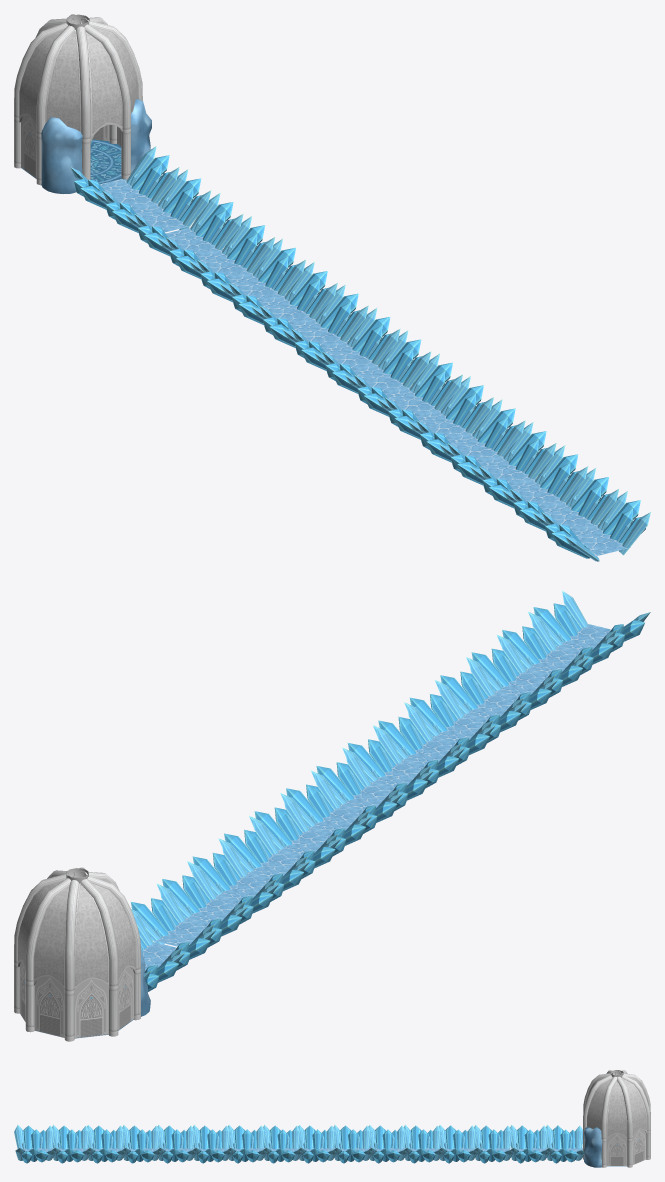
The model's file is sorrowmap.fbx.
3 renders of one model, top to bottom at view 1: azimuth 30°, elevation 25°; view 2: azimuth 150°, elevation 25°; view 3: azimuth 270°, elevation 25°, orthographic. The views are drawn at different scales.
Visible parts, largest first — view 1: sorrowmap, sorrowdome; view 2: sorrowmap, sorrowdome; view 3: sorrowmap, sorrowdome.
Part boxes in pixels (x1,y1,x2,y2): sorrowmap: (134,193,650,561); sorrowdome: (14,14,211,233); sorrowmap: (131,590,650,947); sorrowdome: (14,867,215,1041); sorrowmap: (14,1124,513,1163); sorrowdome: (510,1070,650,1167).
Size of the model in its own units: 1963 by 2690 by 18111.
